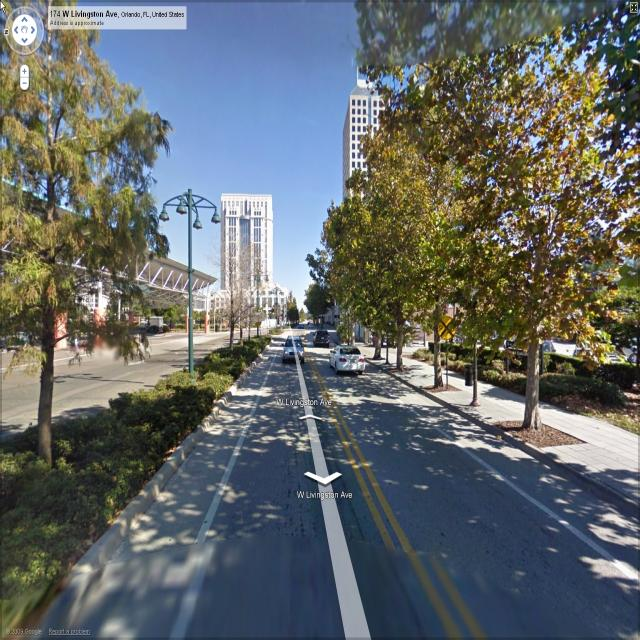b_2: (208, 175, 288, 354), (347, 69, 403, 306)
